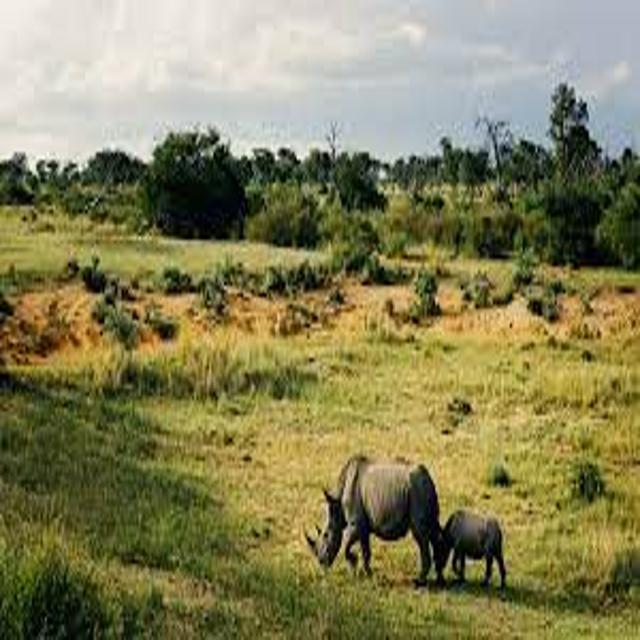rhino: (283, 433, 471, 610), (411, 472, 537, 611)
